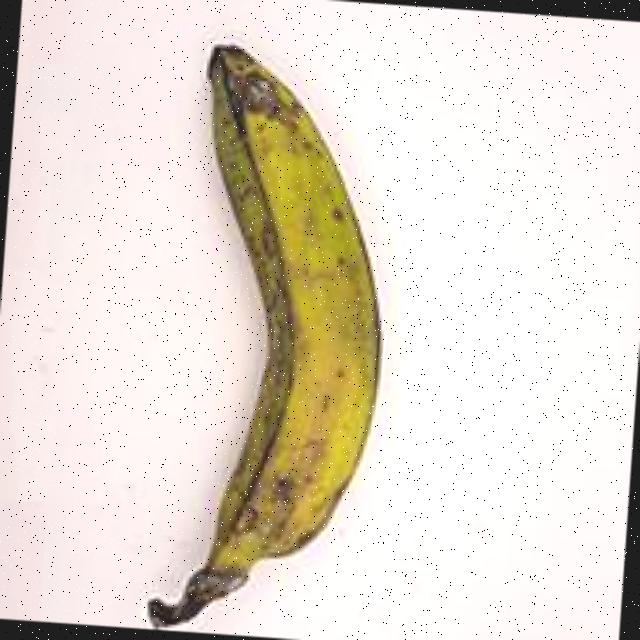Overripe: (88, 7, 459, 640)
